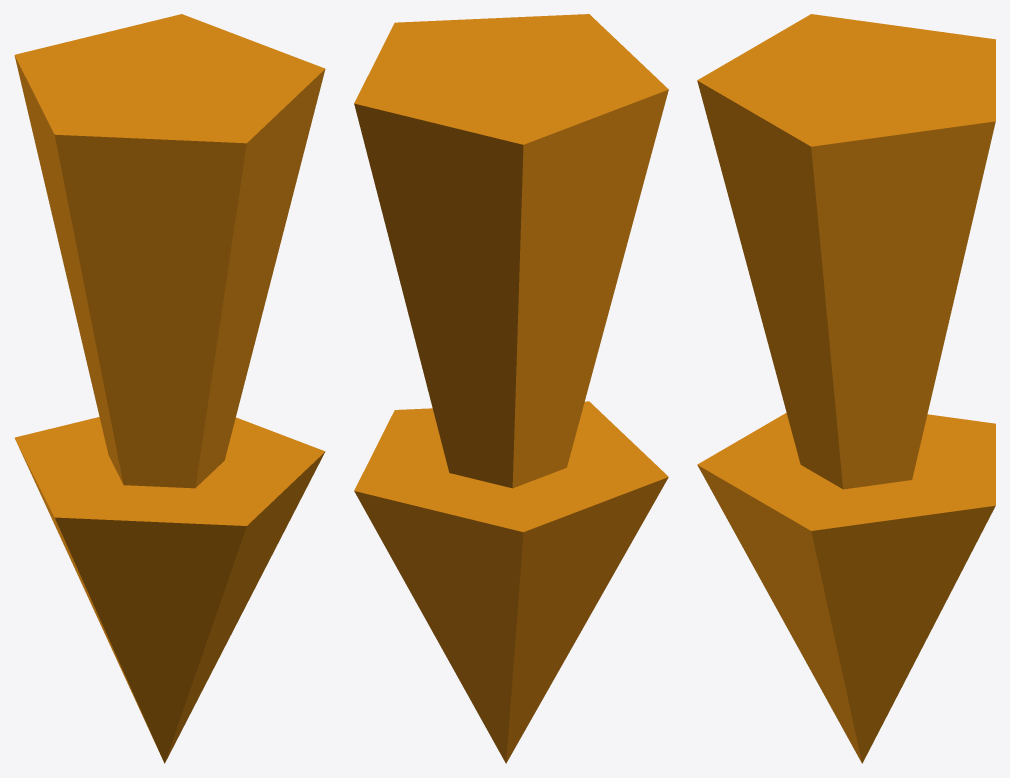
The model's file is Arrow.glb.
3 views of the same model, side by side, from view 1: azimuth 30°, elevation 25°; view 2: azimuth 150°, elevation 25°; view 3: azimuth 270°, elevation 25° (orthographic).
Parts seen in each view (by area): view 1: Cone; view 2: Cone; view 3: Cone.
Part boxes in pixels (x1,y1,x2,y2): Cone: (14,14,325,763); Cone: (354,14,668,763); Cone: (697,14,995,763).
Bounding box in the file's own units: 1.14 × 2.74 × 1.09.
